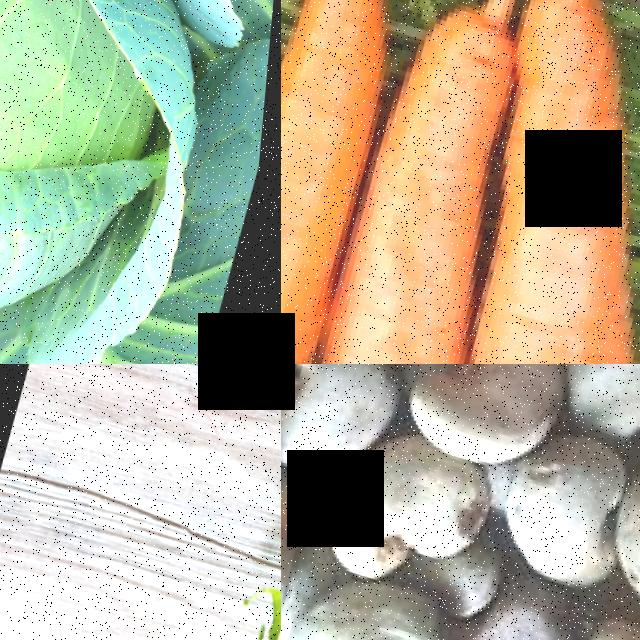cabbage: (0, 0, 281, 364)
carrot: (308, 0, 559, 364), (438, 0, 640, 364), (281, 0, 431, 364)
cashew: (328, 419, 511, 582), (509, 415, 640, 590), (424, 364, 577, 481), (281, 570, 496, 640), (281, 364, 404, 482), (466, 552, 593, 640), (281, 451, 328, 610)
cauliflower: (75, 364, 281, 640)
